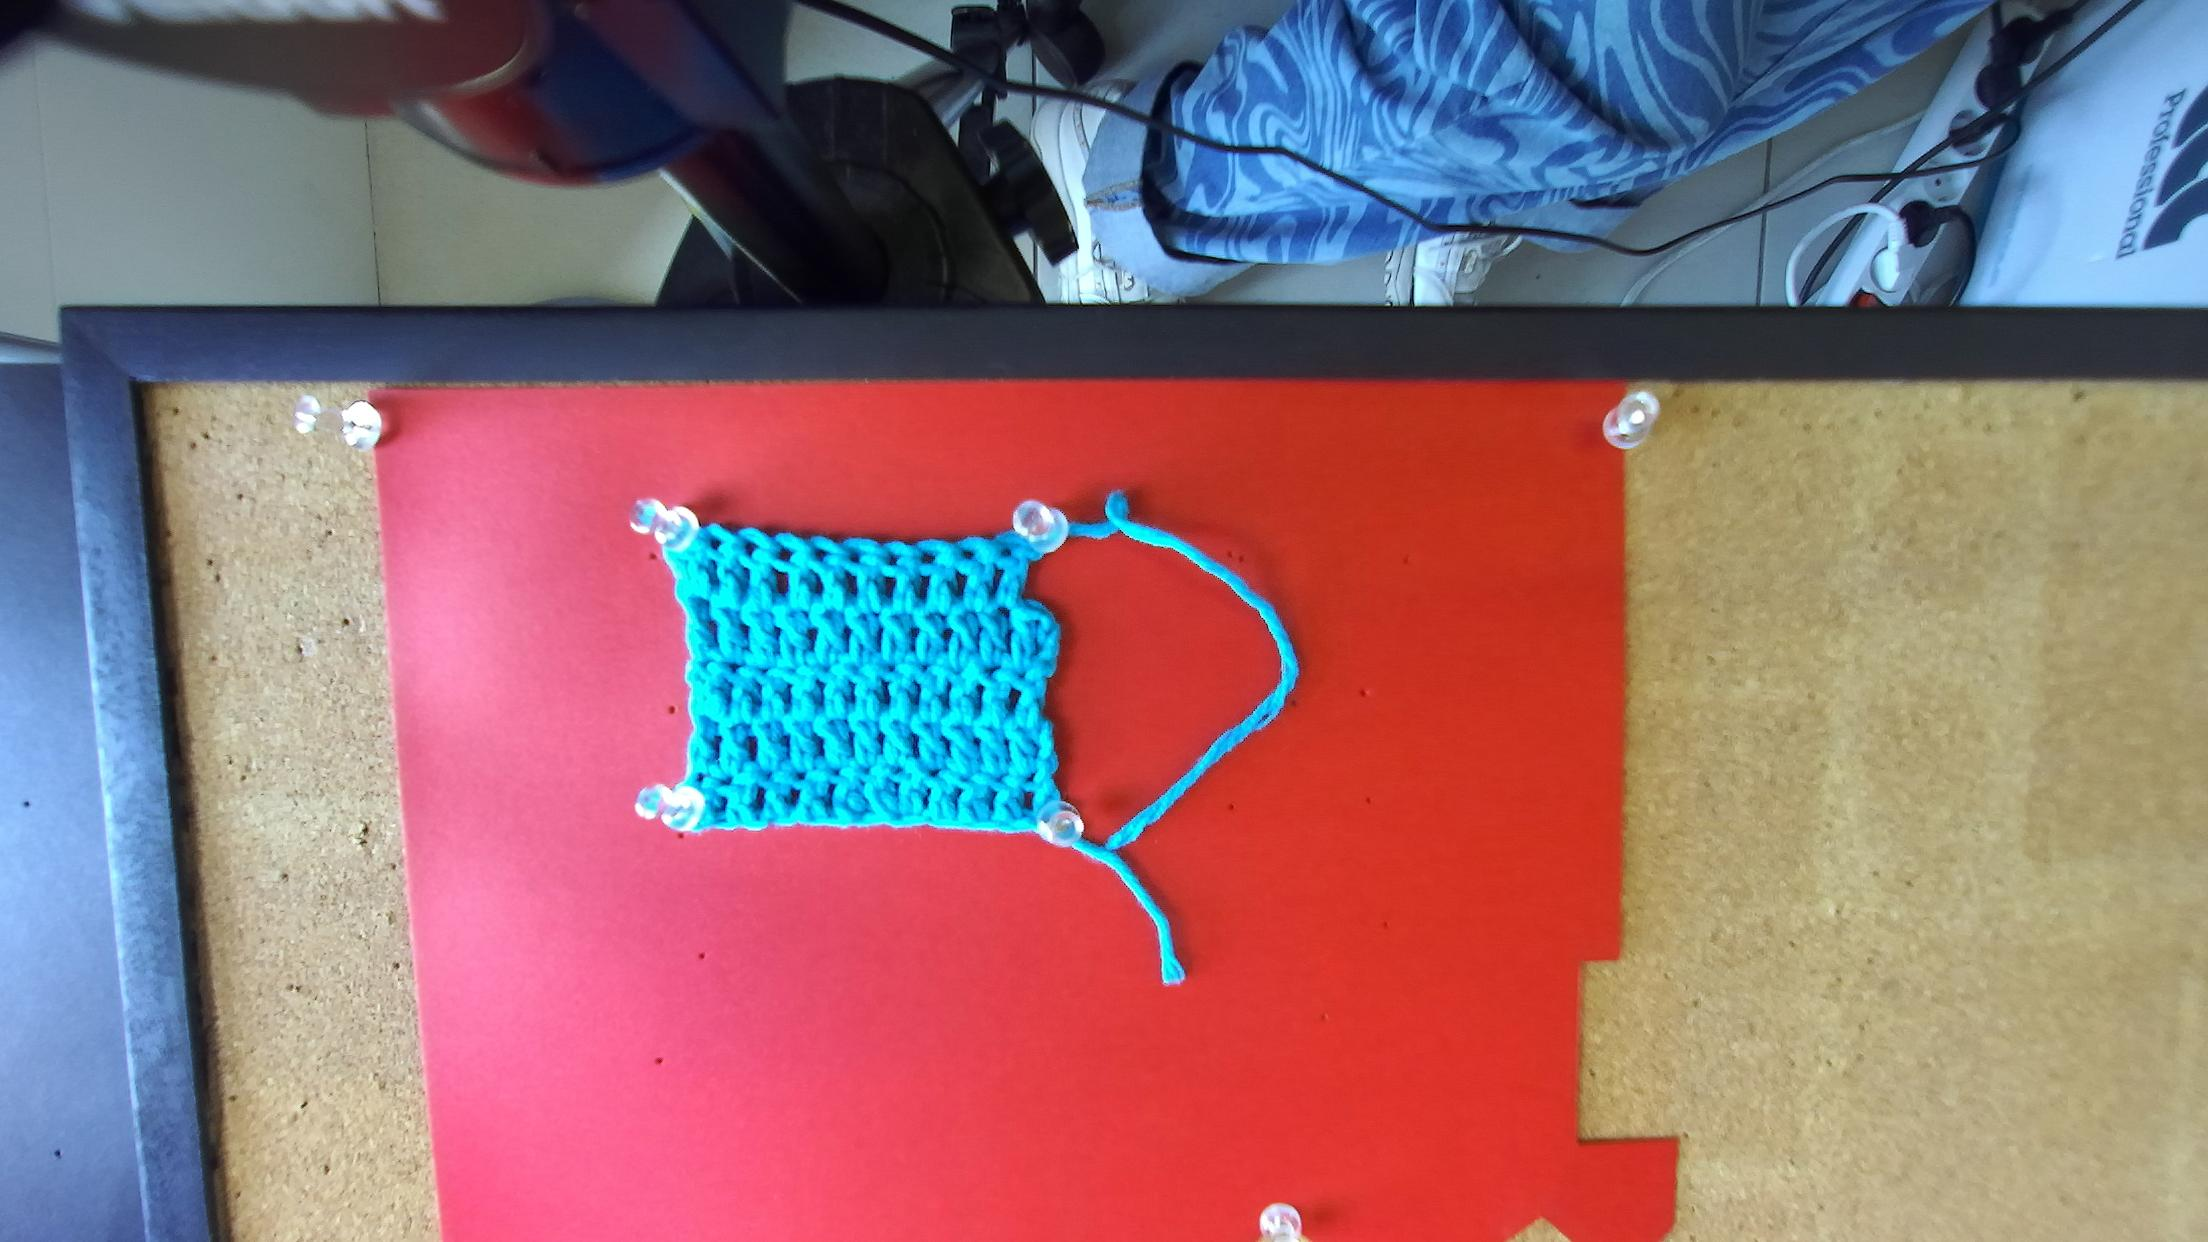hole: (778, 544, 796, 563), (708, 535, 725, 552), (745, 541, 760, 557), (814, 547, 830, 563), (846, 552, 864, 563), (919, 552, 937, 563), (886, 555, 902, 566), (961, 549, 975, 560), (1001, 549, 1013, 555)
swatch: (635, 508, 1083, 839)
